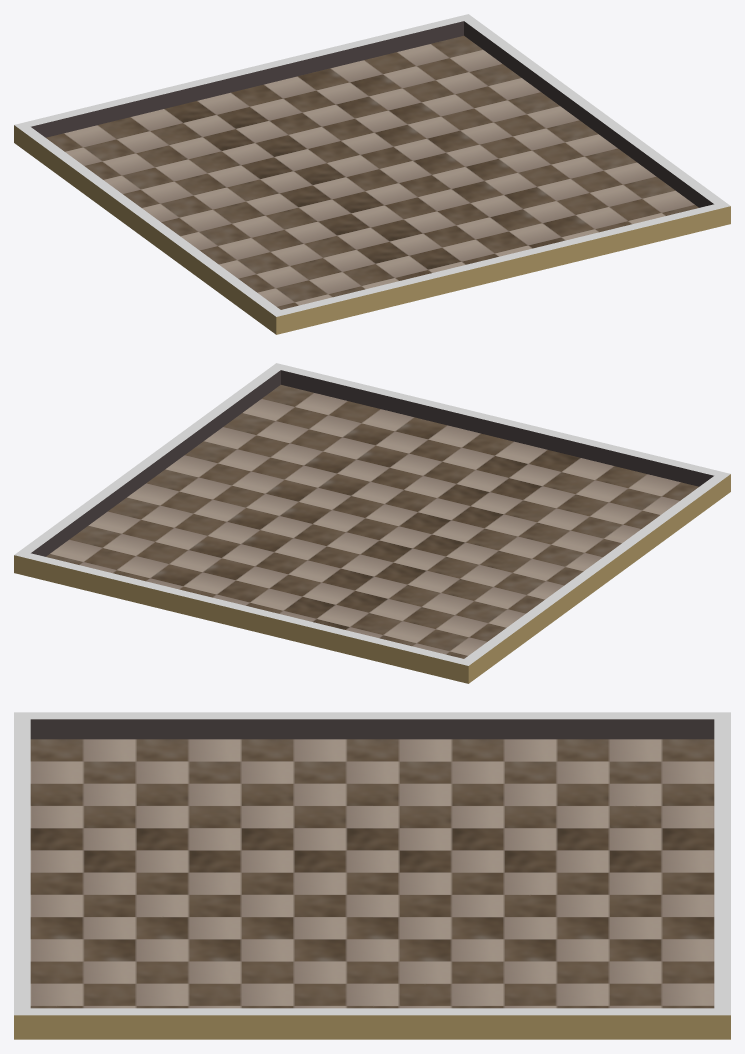
Rendered from ground.glb.
3 views of the same model, one above another, from view 1: azimuth 30°, elevation 25°; view 2: azimuth 150°, elevation 25°; view 3: azimuth 270°, elevation 25° (orthographic). The views are drawn at different scales.
Visible parts, largest first — view 1: Cube; view 2: Cube; view 3: Cube.
Boxes of the visible parts, x1,y1,x2,y2 form: Cube: (14,14,730,334); Cube: (14,363,730,683); Cube: (14,712,730,1039).
Size of the model in its own units: 14.6 by 0.55 by 14.6.
5 materials, 1 textured.
